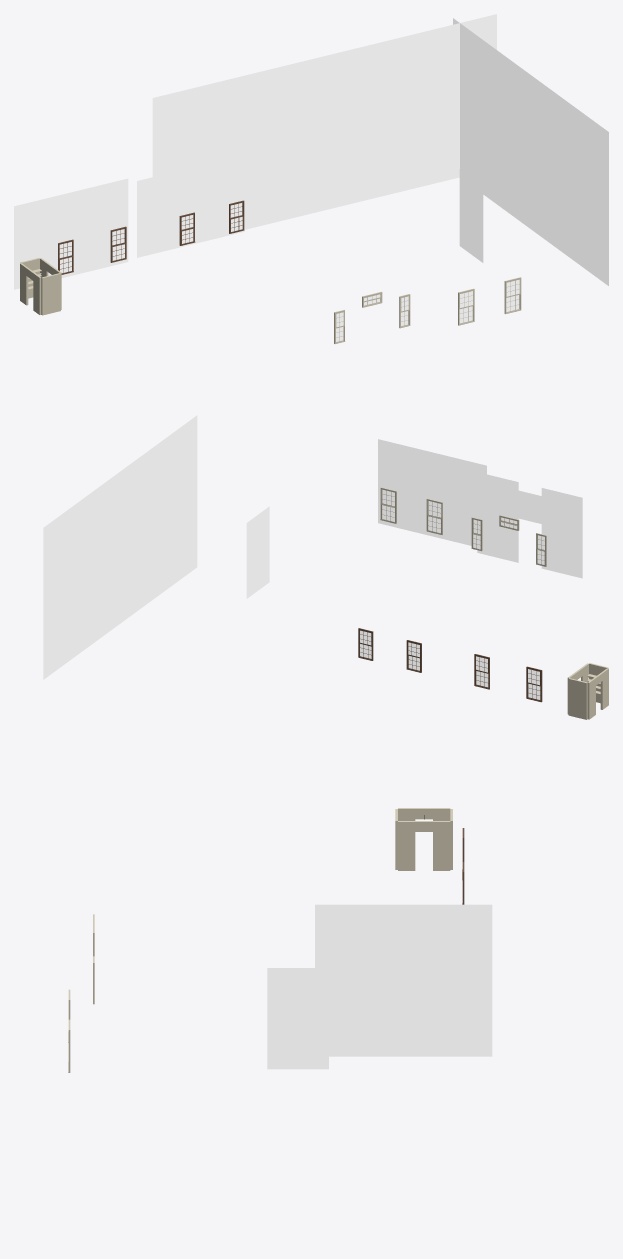
The model's file is exterior.glb.
3 renders of one model, top to bottom at view 1: azimuth 30°, elevation 25°; view 2: azimuth 150°, elevation 25°; view 3: azimuth 270°, elevation 25°, orthographic. The views are drawn at different scales.
Visible parts, largest first — view 1: ROOM__exterior; view 2: ROOM__exterior; view 3: ROOM__exterior.
Part boxes in pixels (x1=…): ROOM__exterior: x1=14, y1=14, x2=608, y2=343; ROOM__exterior: x1=43, y1=415, x2=608, y2=719; ROOM__exterior: x1=68, y1=808, x2=492, y2=1072.
Size of the model in its own units: 43.14 by 12 by 31.88.
